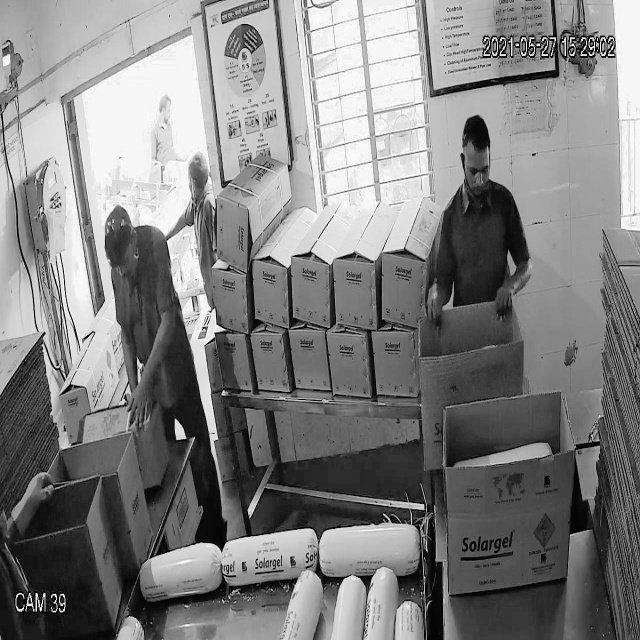Sin_gafas: (456, 151, 496, 187)
